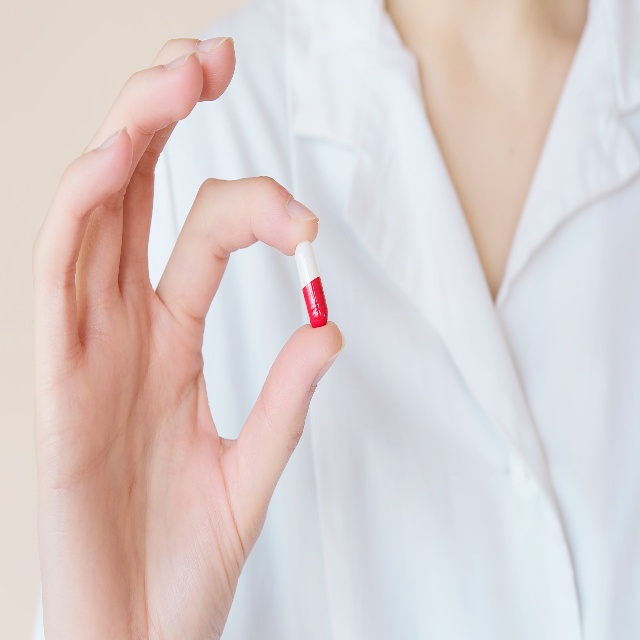Sin_guantes: (26, 28, 344, 640)
